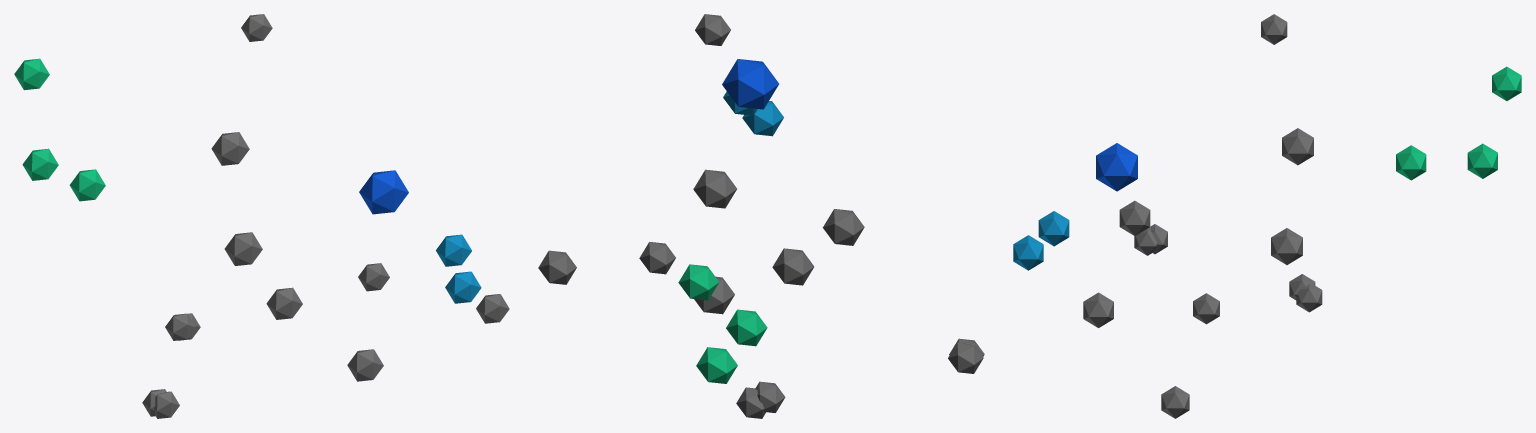
3 views of the same model, side by side, from view 1: azimuth 30°, elevation 25°; view 2: azimuth 150°, elevation 25°; view 3: azimuth 270°, elevation 25° (orthographic). The views are drawn at different scales.
Visible parts, largest first — view 1: 00_02_03; view 2: 00_02_03; view 3: 00_02_03.
Boxes of the visible parts, left/top/right/bottom form: 00_02_03: left=14, top=14, right=509, bottom=418; 00_02_03: left=538, top=14, right=984, bottom=418; 00_02_03: left=1013, top=14, right=1521, bottom=418.
Size of the model in its own units: 0.4819 by 0.403 by 0.5854.
